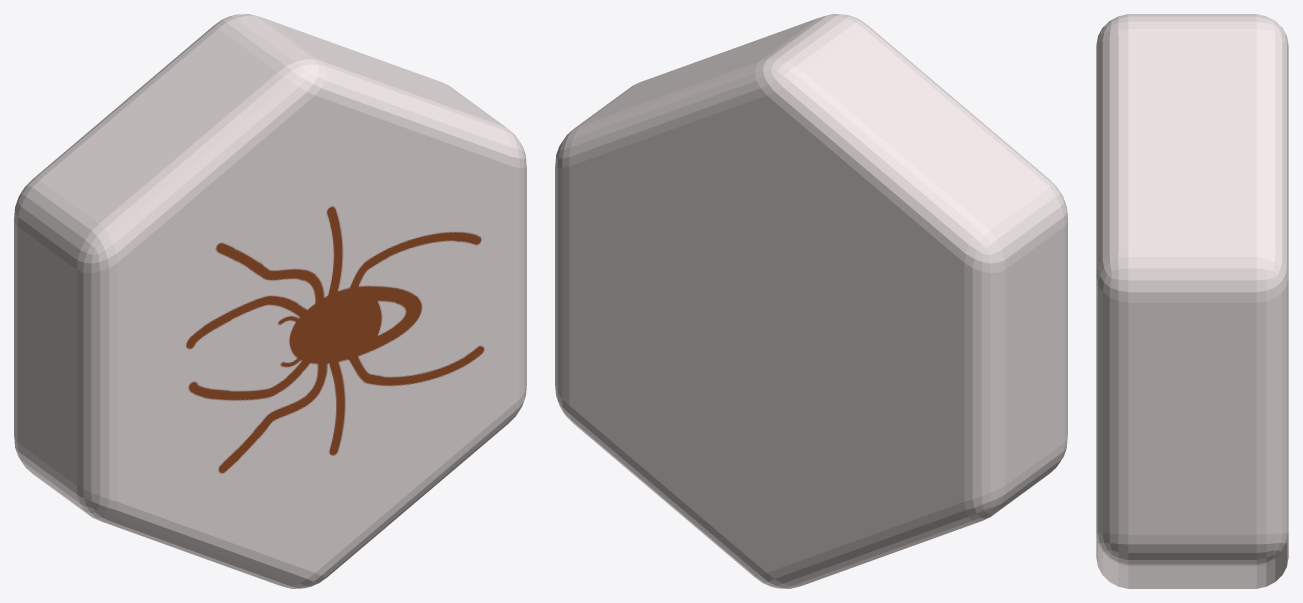
3 views of the same model, side by side, from view 1: azimuth 30°, elevation 25°; view 2: azimuth 150°, elevation 25°; view 3: azimuth 270°, elevation 25° (orthographic). The views are drawn at different scales.
Parts seen in each view (by area): view 1: wS; view 2: wS; view 3: wS.
Part boxes in pixels (x1,y1,x2,y2): wS: (14,14,526,588); wS: (555,14,1067,588); wS: (1096,14,1288,588).
Size of the model in its own units: 0.0866 by 0.0973 by 0.03.
Materials: 1 (1 with a texture image).
